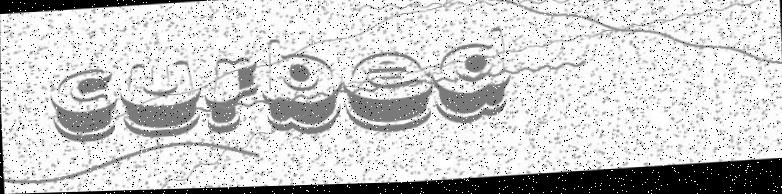b: (260, 34, 343, 138)
c: (41, 61, 121, 145)
d: (425, 26, 513, 126)
e: (340, 46, 435, 138)
r: (205, 49, 259, 136)
u: (120, 57, 205, 138)
